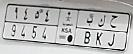4: (41, 9, 51, 41), (20, 7, 29, 38)
5: (31, 10, 40, 39)
9: (10, 6, 19, 37)
B: (84, 16, 94, 45)
J: (108, 15, 120, 47)
K: (95, 14, 107, 47)
